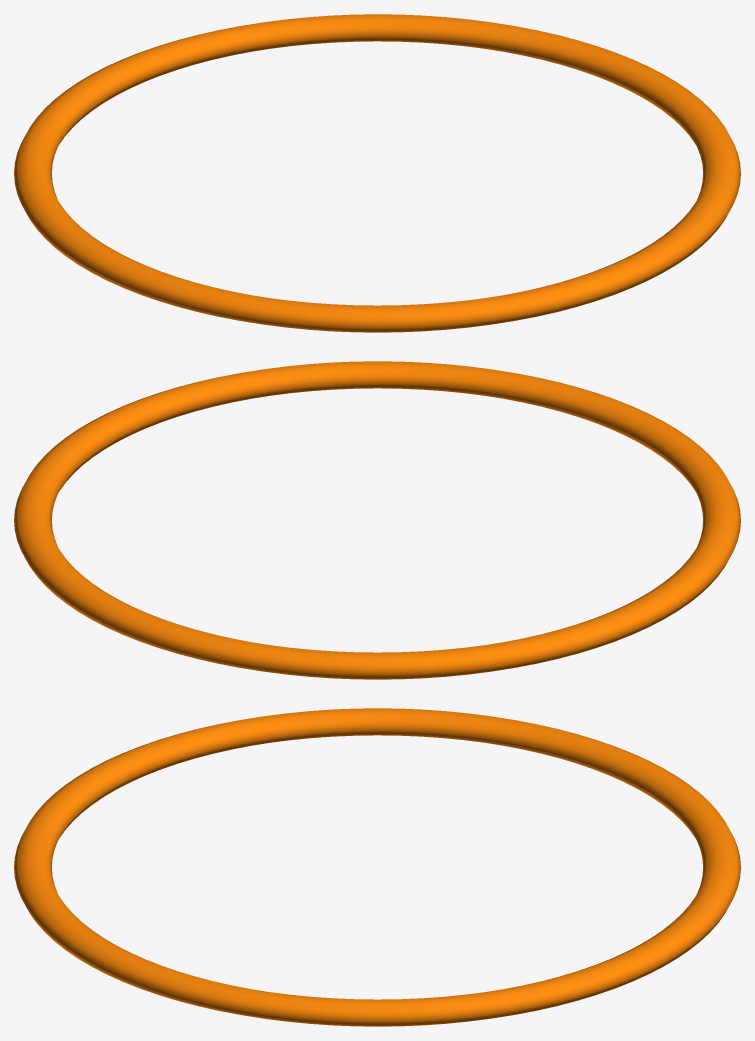
File: FG_PadRingGold.obj
3 renders of one model, top to bottom at view 1: azimuth 30°, elevation 25°; view 2: azimuth 150°, elevation 25°; view 3: azimuth 270°, elevation 25°, orthographic.
Parts seen in each view (by area): view 1: FG_PadRingGold; view 2: FG_PadRingGold; view 3: FG_PadRingGold.
Part boxes in pixels (x1,y1,x2,y2): FG_PadRingGold: (14, 14, 740, 332); FG_PadRingGold: (14, 361, 740, 679); FG_PadRingGold: (14, 708, 740, 1026).
Size of the model in its own units: 9.6 by 0.3234 by 9.6.
